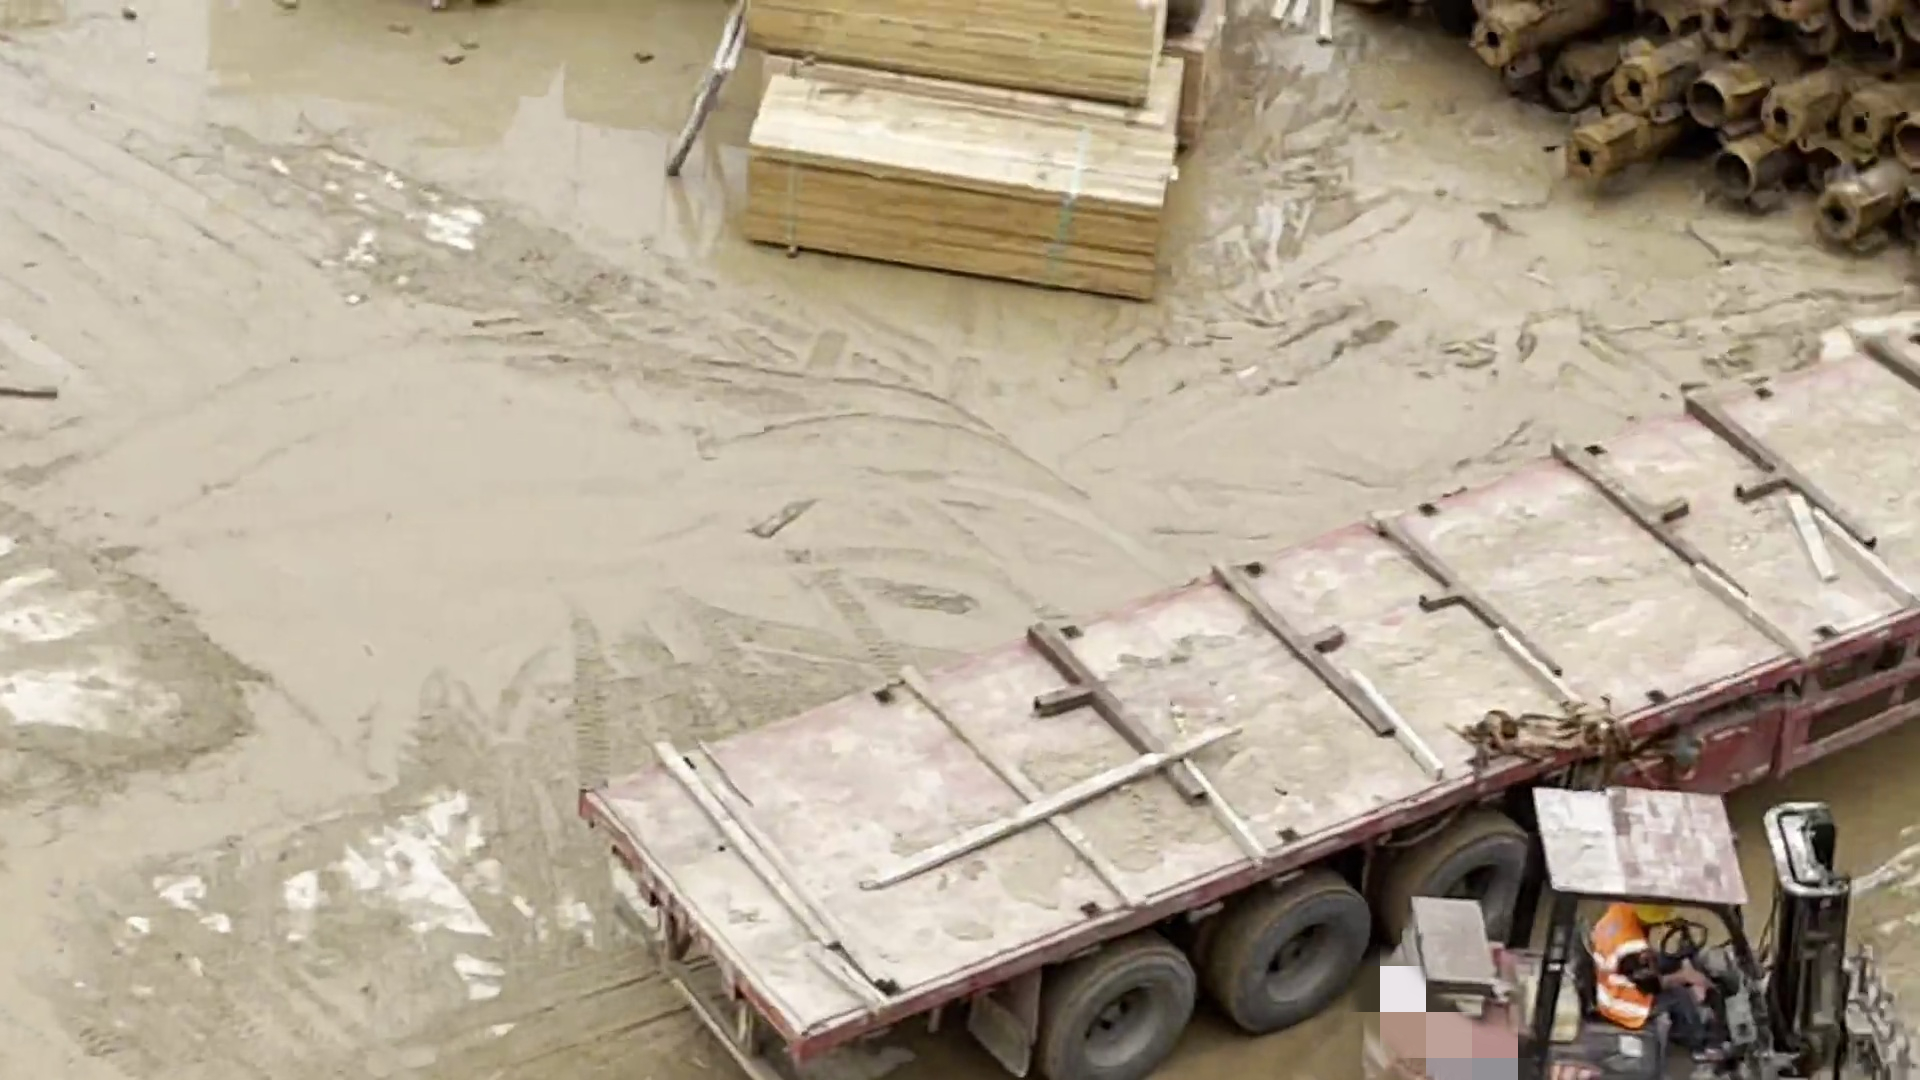person: (1594, 892, 1741, 1075)
vest: (1591, 901, 1651, 1031)
wood: (745, 79, 1199, 316), (720, 1, 1148, 115)
